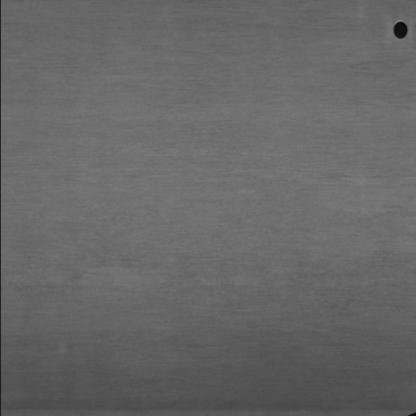punching_hole: (389, 19, 411, 41)
